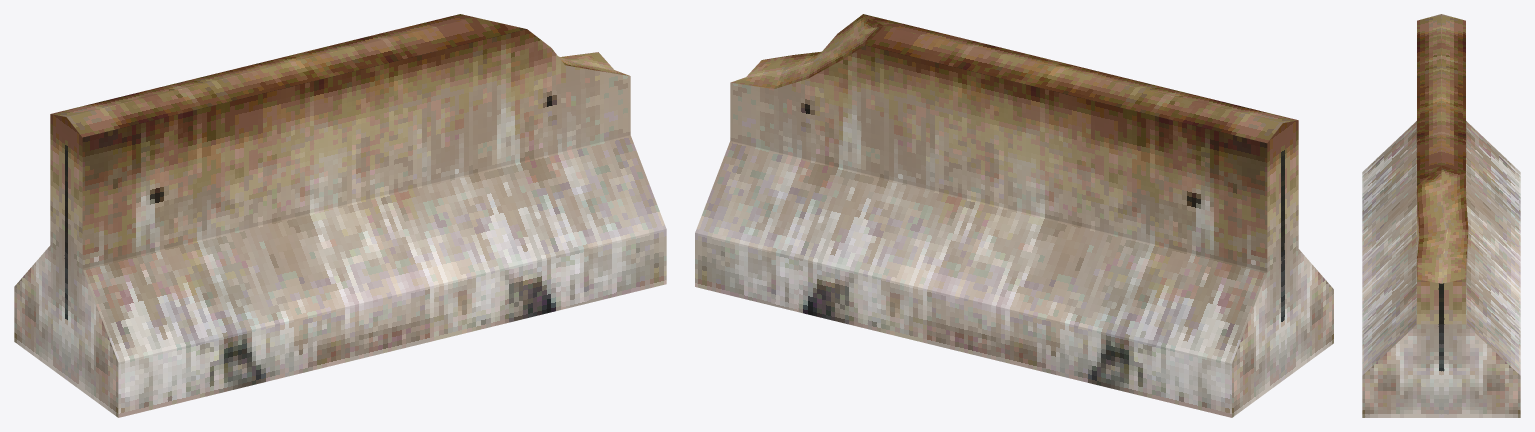
The model's file is barrier5.glb.
3 views of the same model, side by side, from view 1: azimuth 30°, elevation 25°; view 2: azimuth 150°, elevation 25°; view 3: azimuth 270°, elevation 25° (orthographic). The views are drawn at different scales.
Visible parts, largest first — view 1: Jersey_barrier_broken_edge_dirty_concrete_barriers_0; view 2: Jersey_barrier_broken_edge_dirty_concrete_barriers_0; view 3: Jersey_barrier_broken_edge_dirty_concrete_barriers_0.
Part boxes in pixels (x1,y1,x2,y2): Jersey_barrier_broken_edge_dirty_concrete_barriers_0: (14,14,666,417); Jersey_barrier_broken_edge_dirty_concrete_barriers_0: (695,14,1333,417); Jersey_barrier_broken_edge_dirty_concrete_barriers_0: (1362,14,1520,417).
Bounding box in the file's own units: 2.48 × 1.14 × 0.8144.
1 material, 1 textured.
